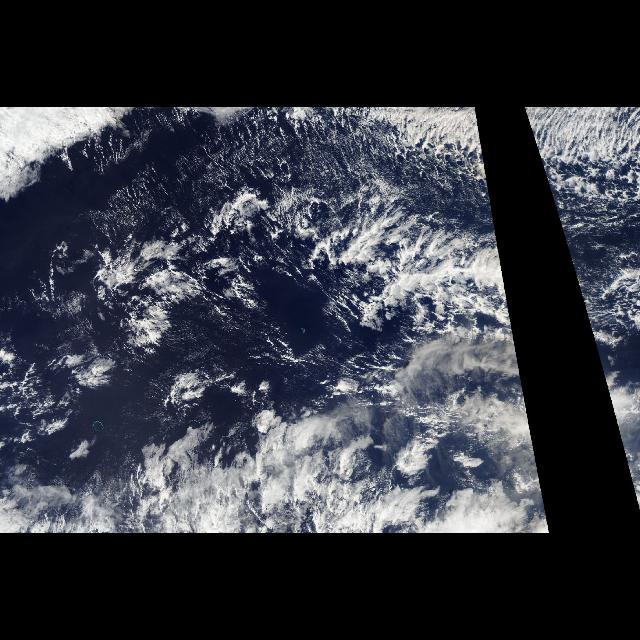Fish: (301, 200, 514, 332)
Gravel: (74, 157, 394, 367), (524, 108, 638, 200), (402, 108, 490, 200)
Sugar: (82, 112, 410, 234)
